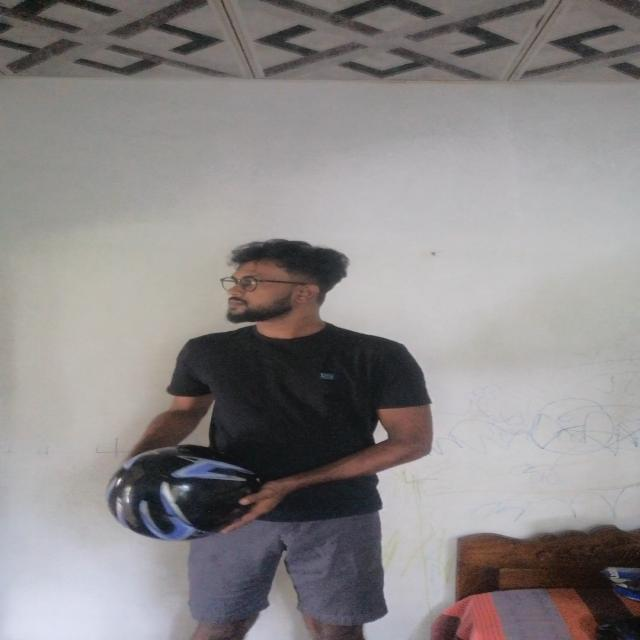Person: (108, 235, 442, 640)
